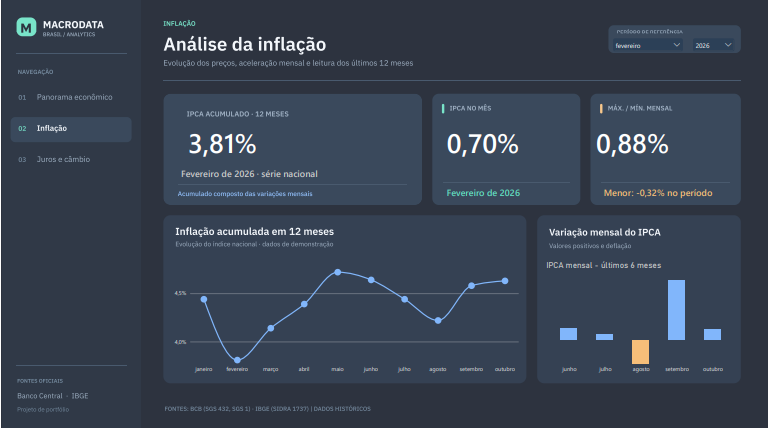

The page's visual inventory and layout, read from the dashboard file:
{"tool":"powerbi","page":{"name":"Inflação","canvas":[1920,1080],"ordinal":1},"visuals":[{"type":"actionButton","box":[27.6,223.2,295.5,53.1],"z":0},{"type":"actionButton","box":[27.6,378.4,295.5,53.1],"z":1000},{"type":"slicer","fields":{"Values":["Dim_Calendario.MesNome"]},"box":[1526.7,97.8,183.3,50],"z":2000},{"type":"slicer","fields":{"Values":["Dim_Calendario.Ano"]},"box":[1726.7,97.8,112.2,50],"z":3000},{"type":"cardVisual","fields":{"Data":["Medidas.IPCA Acumulado 12 Meses (%)"]},"box":[450.7,293.4,430,138],"z":4000},{"type":"cardVisual","fields":{"Data":["Medidas.IPCA Mensal (%)"]},"box":[1099.1,293.4,348.7,138.2],"z":5000},{"type":"cardVisual","fields":{"Data":["Medidas.Maior IPCA Mensal (%)"]},"box":[1473.3,293.4,348.7,138.2],"z":6000},{"type":"cardVisual","fields":{"Data":["Medidas.Card Texto Menor IPCA"]},"box":[1492.4,440.1,312.4,95.7],"z":7000},{"type":"cardVisual","fields":{"Data":["Medidas.Texto Período Selecionado"]},"box":[1099.1,440.1,312.4,95.7],"z":8000},{"type":"cardVisual","fields":{"Data":["Medidas.Texto Período Série Nacional"]},"box":[433.7,393.3,429.4,95.7],"z":9000},{"type":"lineChart","fields":{"Category":["Dim_Calendario.MesNome"],"Y":["Medidas.IPCA Acumulado 12 Meses (%)"]},"box":[416.7,646.3,892.9,314.6],"z":10000},{"type":"lineClusteredColumnComboChart","title":"IPCA mensal - últimos 6 meses","fields":{"Category":["Dim_Calendario.MesNome"],"Y":["Medidas.IPCA Mensal (%)"]},"box":[1347.9,646.3,508.1,314.6],"z":11000}]}

Visuals, with their boxes in screenshot pixels (x1, y1, x2, y2), scaled from the page's 1920x1080 canvas onto the 768x429 screenshot:
actionButton: rect(11, 89, 129, 110)
actionButton: rect(11, 150, 129, 171)
slicer - Dim_Calendario.MesNome: rect(611, 39, 684, 59)
slicer - Dim_Calendario.Ano: rect(691, 39, 736, 59)
cardVisual - Medidas.IPCA Acumulado 12 Meses (%): rect(180, 117, 352, 171)
cardVisual - Medidas.IPCA Mensal (%): rect(440, 117, 579, 171)
cardVisual - Medidas.Maior IPCA Mensal (%): rect(589, 117, 729, 171)
cardVisual - Medidas.Card Texto Menor IPCA: rect(597, 175, 722, 213)
cardVisual - Medidas.Texto Período Selecionado: rect(440, 175, 565, 213)
cardVisual - Medidas.Texto Período Série Nacional: rect(173, 156, 345, 194)
lineChart - Dim_Calendario.MesNome x Medidas.IPCA Acumulado 12 Meses (%): rect(167, 257, 524, 382)
"IPCA mensal - últimos 6 meses" lineClusteredColumnComboChart: rect(539, 257, 742, 382)
